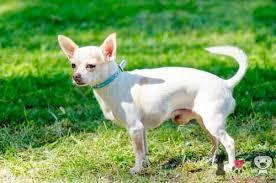chihuahua: (49, 24, 270, 182)
